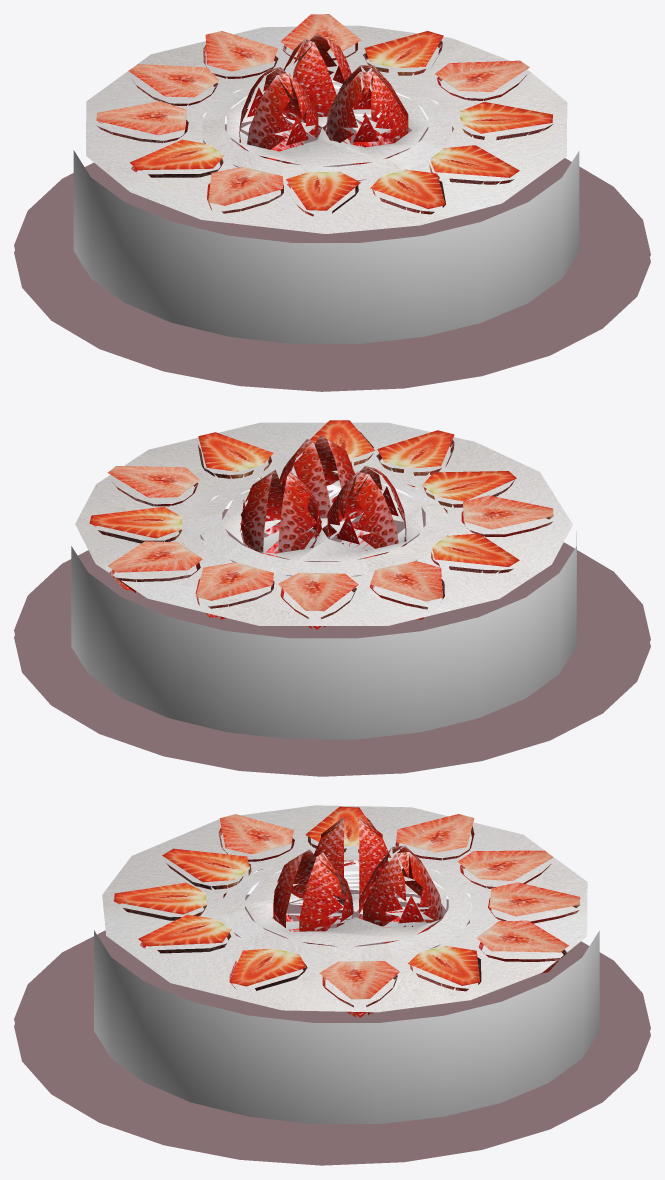
The model's file is tart-fruit.glb.
3 views of the same model, one above another, from view 1: azimuth 30°, elevation 25°; view 2: azimuth 150°, elevation 25°; view 3: azimuth 270°, elevation 25° (orthographic).
Visible parts, largest first — view 1: tart-fruit; view 2: tart-fruit; view 3: tart-fruit.
Part boxes in pixels (<box>): tart-fruit: <box>14,14,650,391</box>; tart-fruit: <box>14,420,650,776</box>; tart-fruit: <box>14,805,650,1165</box>.
Bounding box in the file's own units: 0.2538 × 0.0835 × 0.2538.
3 materials, 2 textured.
